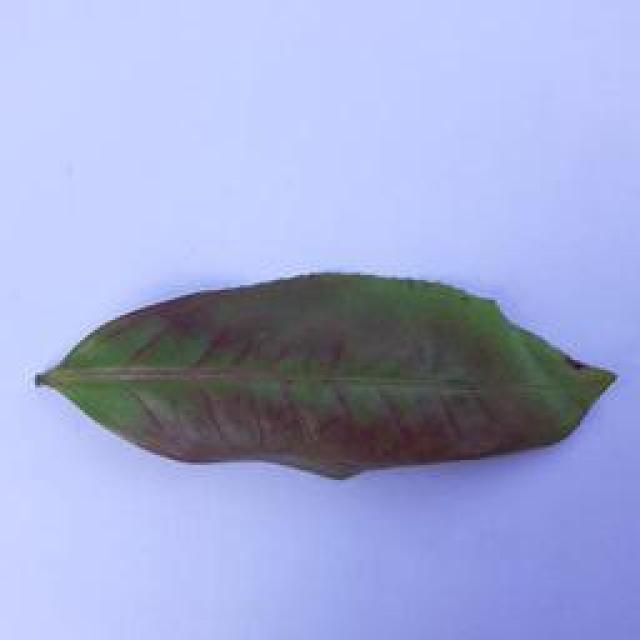Red Leaf Spot: (33, 254, 624, 487)
